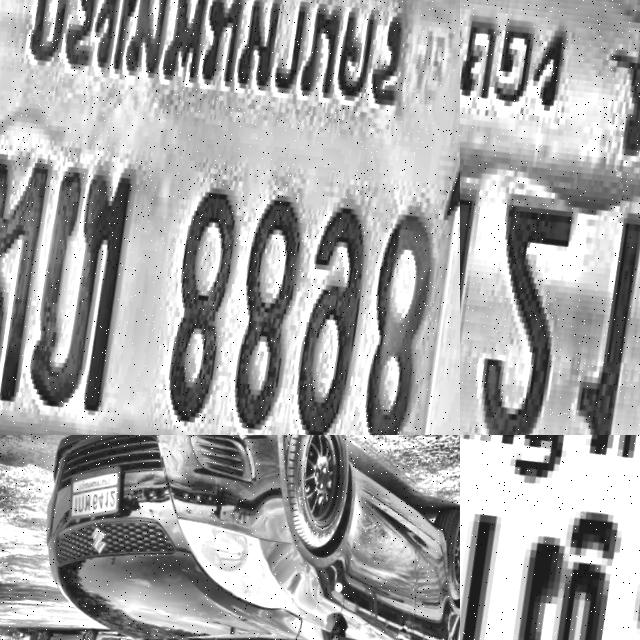license-plate: (0, 0, 460, 435), (460, 0, 640, 435), (460, 435, 640, 640), (59, 463, 123, 534)
